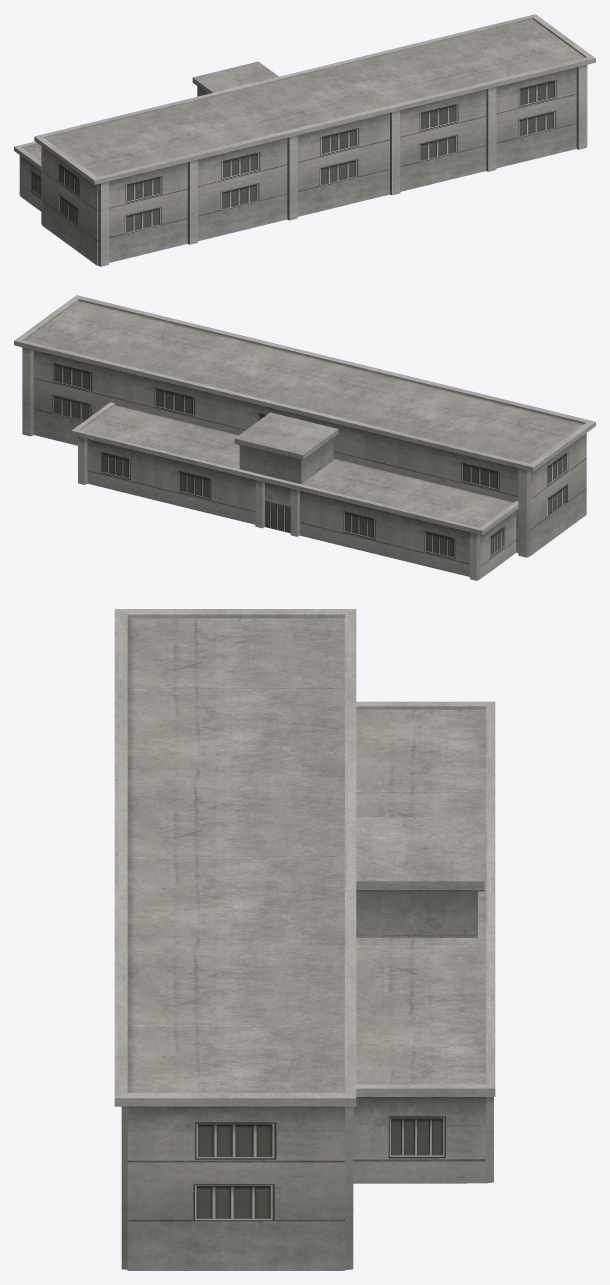
File: workshop_05.obj
The picture shows the model from 3 angles, top to bottom: view 1: azimuth 30°, elevation 25°; view 2: azimuth 150°, elevation 25°; view 3: azimuth 270°, elevation 25°; orthographic projection. The views are drawn at different scales.
Parts seen in each view (by area): view 1: Object187; view 2: Object187; view 3: Object187.
Part boxes in pixels (x1,y1,x2,y2): Object187: (14, 14, 595, 266); Object187: (14, 295, 595, 580); Object187: (114, 609, 495, 1270).
Size of the model in its own units: 98.72 by 16.75 by 32.48.
